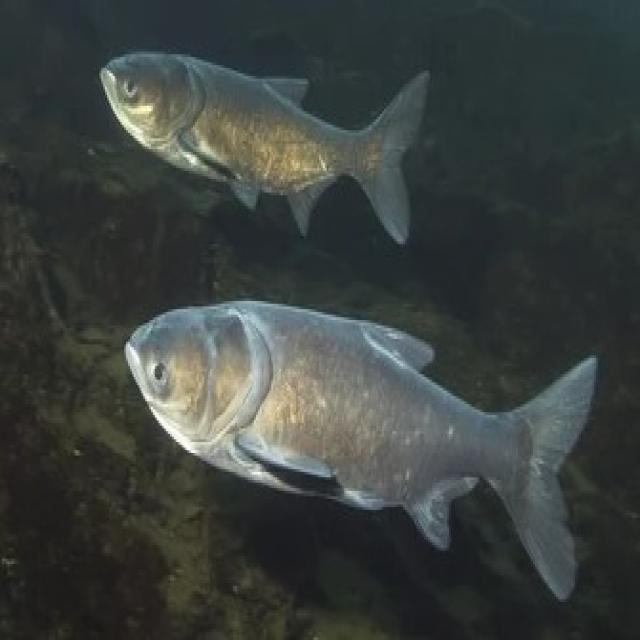Big-Head-Carp: (50, 29, 623, 618)
